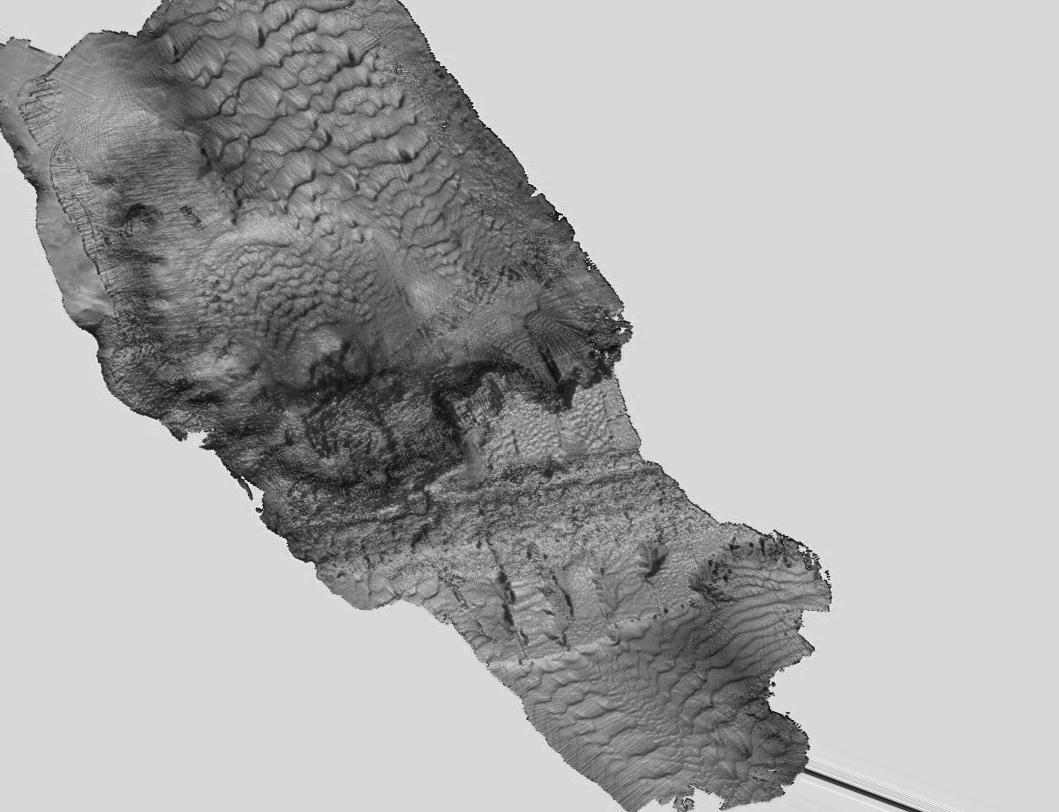Dune: (186, 18, 371, 112), (540, 659, 671, 785), (233, 127, 398, 211), (660, 626, 754, 764), (217, 246, 345, 314), (390, 166, 451, 243)
Scarp: (72, 260, 161, 454), (161, 378, 254, 482)
Scour pit: (260, 304, 451, 422)
Submerged dike: (287, 482, 432, 586), (435, 488, 578, 561), (571, 460, 660, 551)
